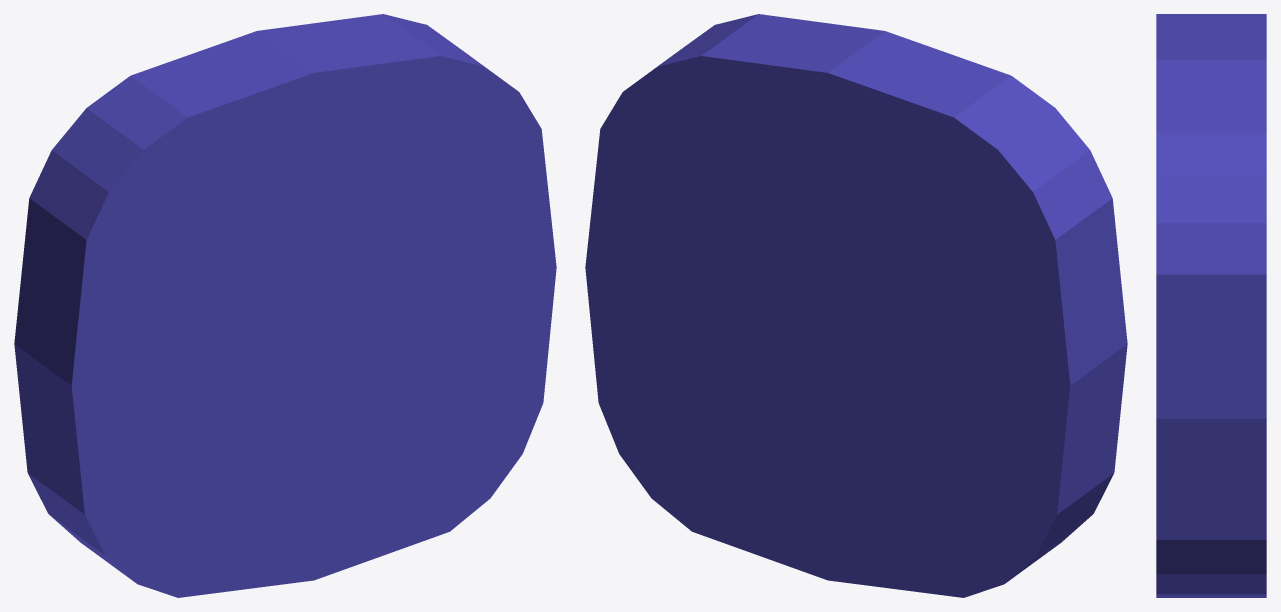
File: PackageTank_Fill_2.fbx
3 renders of one model, left to right at view 1: azimuth 30°, elevation 25°; view 2: azimuth 150°, elevation 25°; view 3: azimuth 270°, elevation 25°, orthographic. The views are drawn at different scales.
Parts seen in each view (by area): view 1: pCylinder30; view 2: pCylinder30; view 3: pCylinder30.
Part boxes in pixels (bbox=[...]): pCylinder30: bbox=[14, 14, 556, 597]; pCylinder30: bbox=[585, 14, 1127, 597]; pCylinder30: bbox=[1156, 14, 1266, 597].
Size of the model in its own units: 1.57 by 1.57 by 0.3224.
